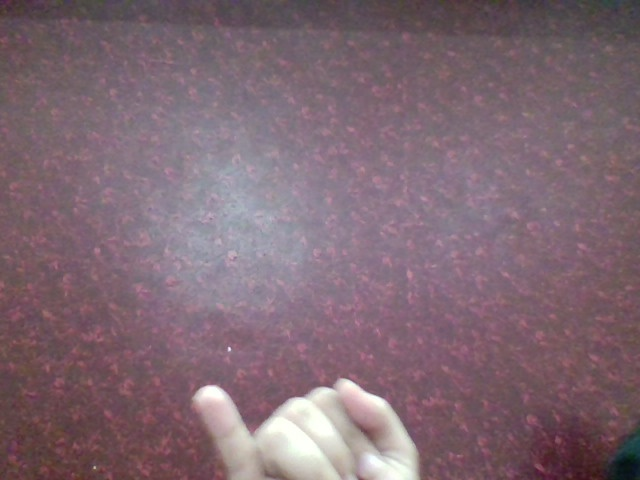j: (181, 369, 437, 480)
